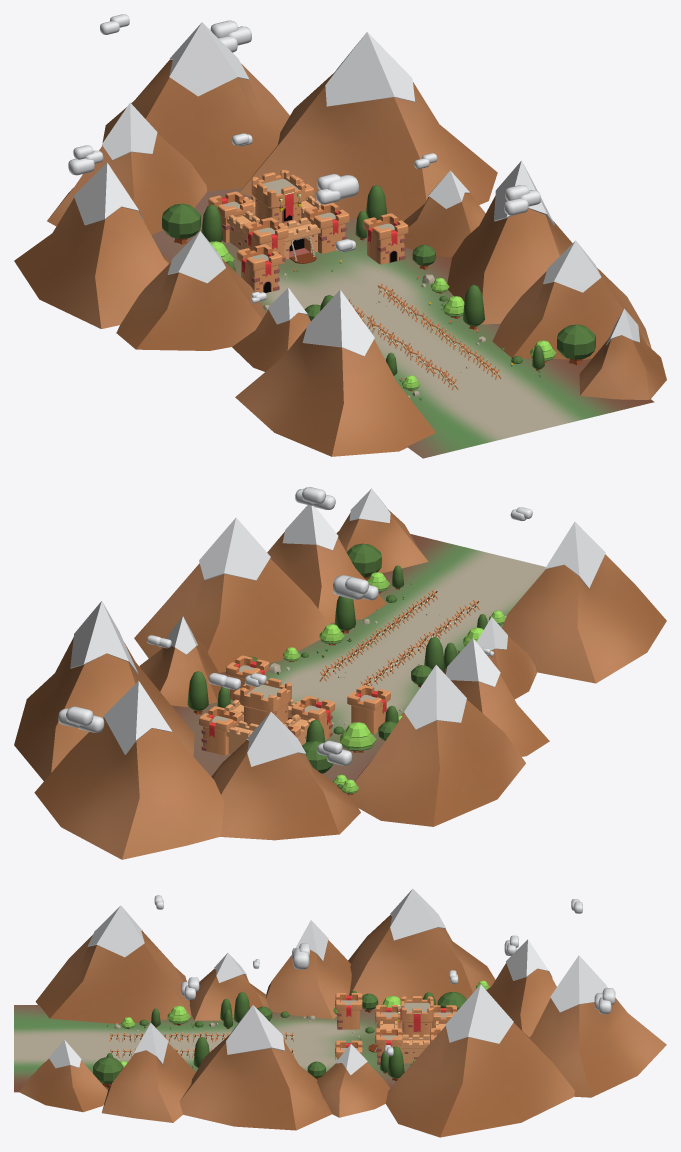
Rendered from map b.fbx.
3 views of the same model, one above another, from view 1: azimuth 30°, elevation 25°; view 2: azimuth 150°, elevation 25°; view 3: azimuth 270°, elevation 25° (orthographic). The views are drawn at different scales.
Visible parts, largest first — view 1: ground, Mountain-5, Mountain-11, Mountain-6, Mountain-8, Mountain-9, Mountain-3, Mountain-2, castel, Mountain-7, Mountain-1, Mountain-4 (+11 smaller); view 2: ground, Mountain-6, Mountain-8, Mountain-11, Mountain-3, Mountain-7, Mountain-5, Mountain-2, castel, Mountain-9, Mountain-1, Mountain-4 (+11 smaller); view 3: Mountain-5, Mountain-3, ground, Mountain-11, Mountain-6, Mountain-8, Mountain-2, Mountain-9, Mountain-7, Mountain-1, castel, Mountain-4 (+6 smaller).
Boxes of the visible parts, <box> form: ground: <box>151,188,654,458</box>; Mountain-5: <box>239,32,497,221</box>; Mountain-11: <box>235,290,435,456</box>; Mountain-6: <box>102,22,289,191</box>; Mountain-8: <box>14,162,170,328</box>; Mountain-9: <box>116,231,266,350</box>; Mountain-3: <box>447,160,572,324</box>; Mountain-2: <box>492,240,651,359</box>; castel: <box>208,170,349,263</box>; Mountain-7: <box>47,102,206,234</box>; Mountain-1: <box>579,308,666,399</box>; Mountain-4: <box>403,170,485,257</box>; ground: <box>171,534,545,781</box>; Mountain-6: <box>34,681,224,859</box>; Mountain-8: <box>346,665,525,826</box>; Mountain-11: <box>502,521,666,683</box>; Mountain-3: <box>134,517,329,672</box>; Mountain-7: <box>211,712,360,840</box>; Mountain-5: <box>14,601,194,780</box>; Mountain-2: <box>267,505,386,623</box>; castel: <box>199,678,335,755</box>; Mountain-9: <box>401,638,549,756</box>; Mountain-1: <box>336,488,428,572</box>; Mountain-4: <box>139,616,221,707</box>; Mountain-5: <box>385,984,574,1137</box>; Mountain-3: <box>179,1005,331,1130</box>; ground: <box>14,1005,411,1092</box>; Mountain-11: <box>35,905,191,1024</box>; Mountain-6: <box>529,955,666,1097</box>; Mountain-8: <box>348,889,495,1005</box>; Mountain-2: <box>102,1023,195,1122</box>; Mountain-9: <box>266,920,351,1019</box>; Mountain-7: <box>486,939,556,1037</box>; Mountain-1: <box>19,1040,107,1112</box>; castel: <box>368,996,456,1064</box>; Mountain-4: <box>317,1044,390,1117</box>.
Bounding box in the file's own units: 327 × 106 × 504.
Materials: 1 (1 with a texture image).
